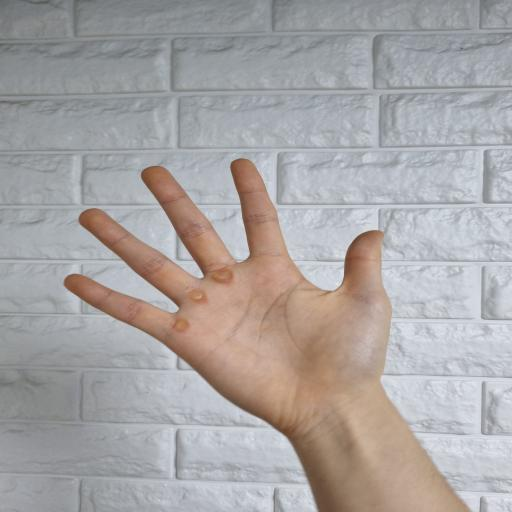Paper: (62, 157, 430, 462)
